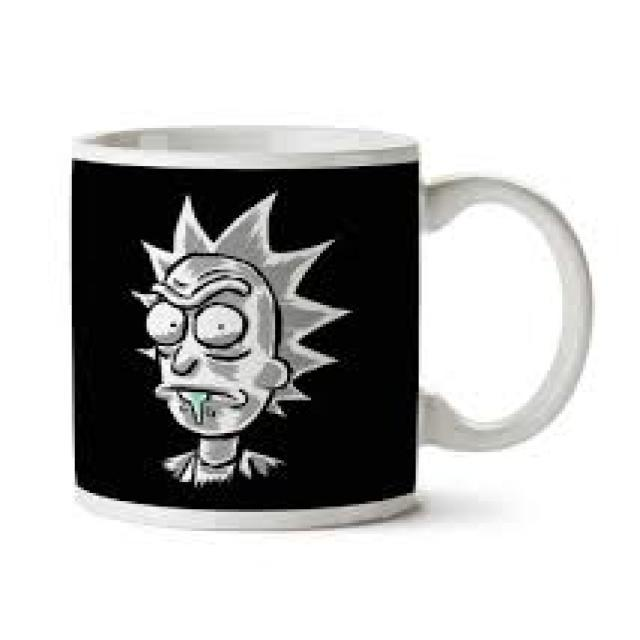taza: (70, 122, 594, 532)
